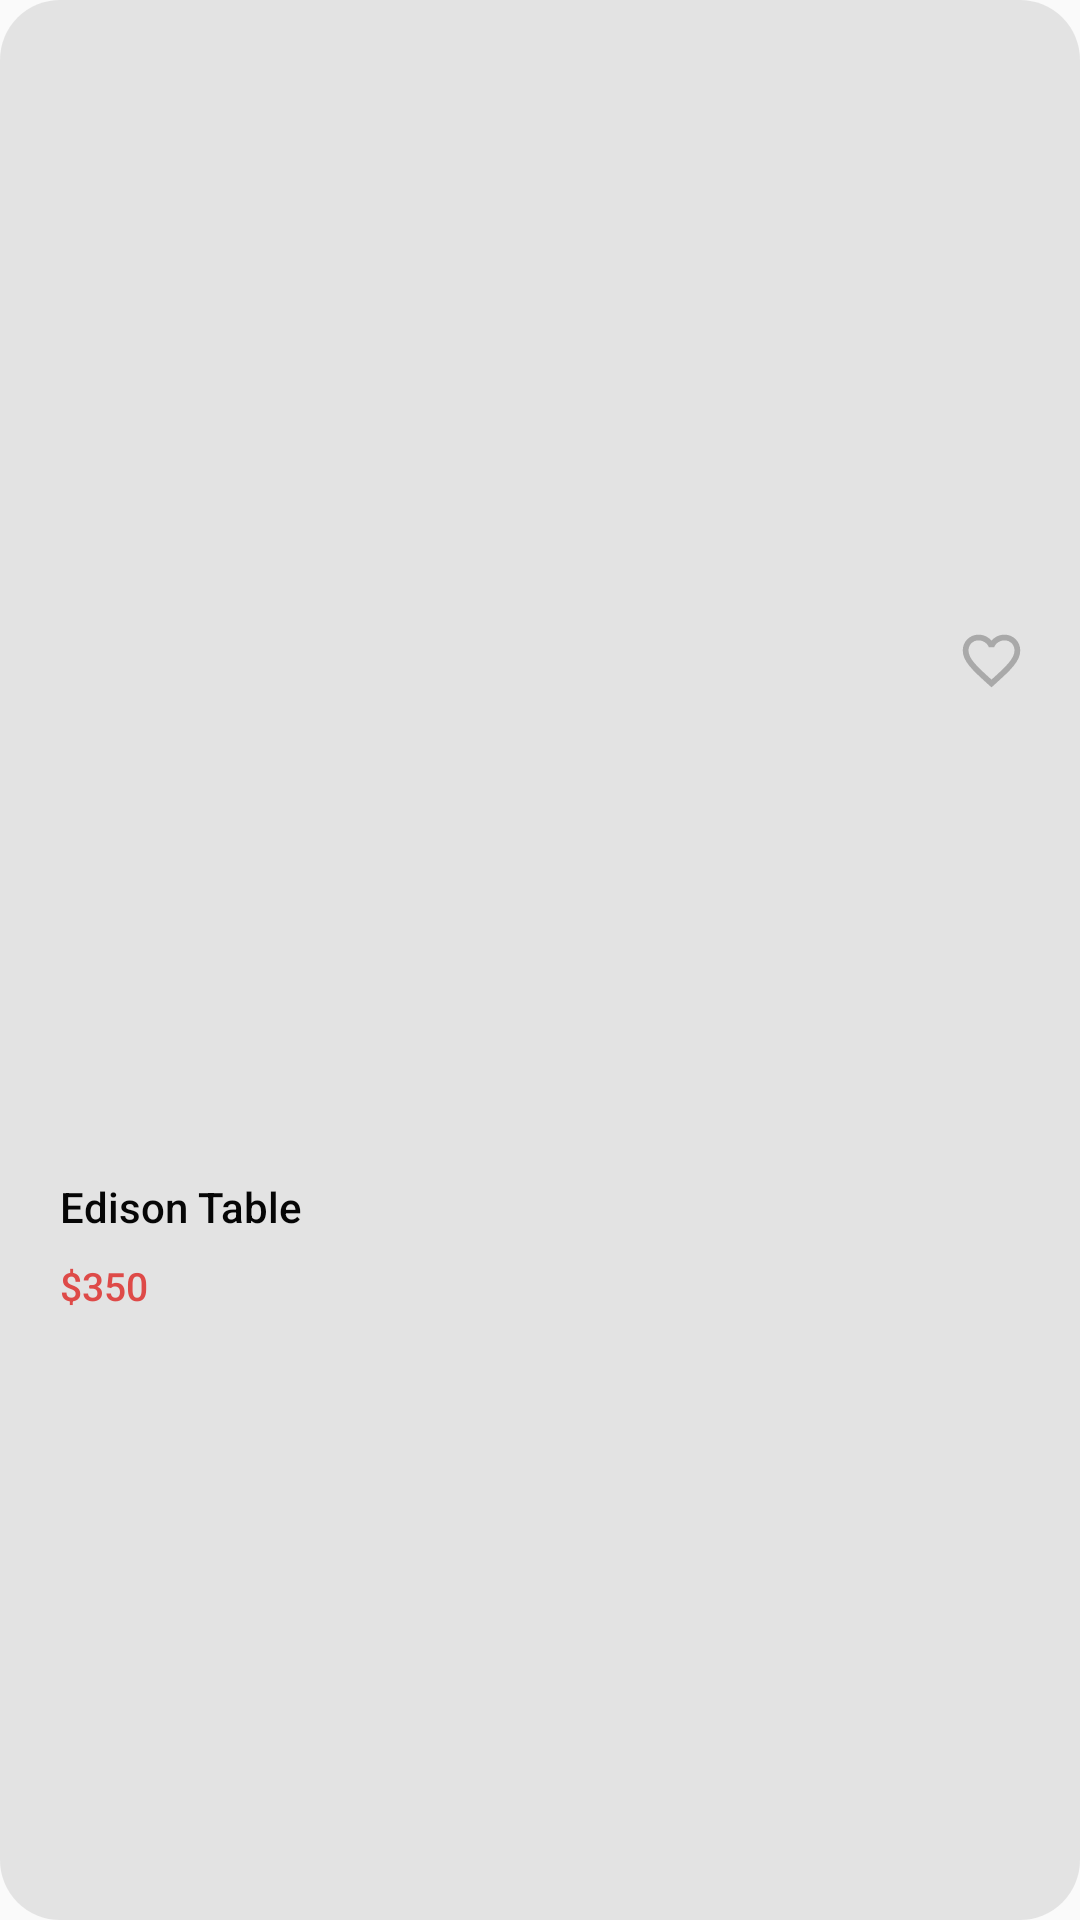

Icons on this 1080 x 1920 Android screen, each with its box as bbox(x1, y1, x2, y2):
love: bbox(963, 635, 1020, 687)
